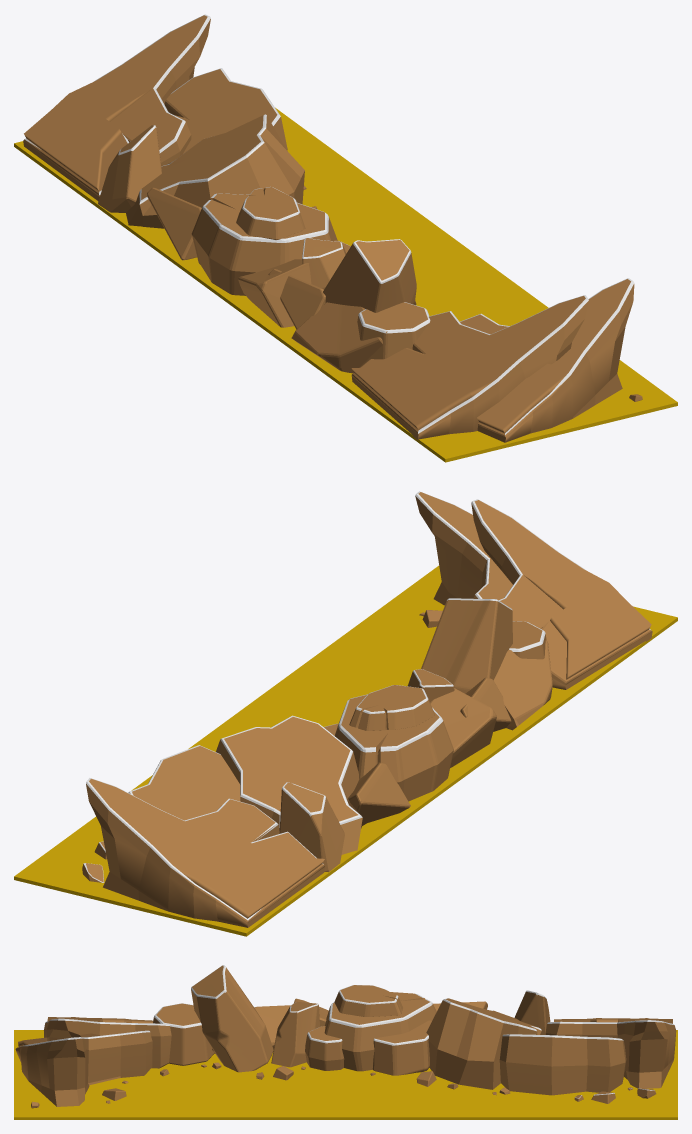
File: Pebble's Road Section 05 Old.fbx
3 views of the same model, one above another, from view 1: azimuth 30°, elevation 25°; view 2: azimuth 150°, elevation 25°; view 3: azimuth 270°, elevation 25° (orthographic). The views are drawn at different scales.
Visible parts, largest first — view 1: Rock_02 (×3), Ground, Rock_12 (×5), Rock_10, Rock_07, Rock_13 (×2), Rock_04, Rock_09; view 2: Rock_02 (×3), Ground, Rock_12 (×5), Rock_07, Rock_10, Rock_13 (×2), Rock_04, Rock_09; view 3: Ground, Rock_02 (×3), Rock_10, Rock_13 (×2), Rock_04, Rock_07, Rock_09, Rock_12 (×2).
Boxes of the visible parts, box(x1,y1,x2,y2) form: Rock_02 (×3): box(23, 14, 634, 442); Ground: box(14, 107, 677, 462); Rock_12 (×5): box(98, 125, 382, 373); Rock_10: box(191, 186, 350, 295); Rock_07: box(126, 114, 304, 228); Rock_13 (×2): box(302, 238, 416, 312); Rock_04: box(164, 68, 287, 153); Rock_09: box(357, 302, 430, 367); Rock_02 (×3): box(86, 491, 652, 927); Ground: box(14, 565, 677, 936); Rock_12 (×5): box(279, 640, 552, 872); Rock_07: box(216, 715, 362, 854); Rock_10: box(323, 685, 453, 801); Rock_13 (×2): box(407, 598, 512, 702); Rock_04: box(128, 745, 240, 820); Rock_09: box(509, 621, 546, 659); Ground: box(14, 1030, 677, 1119); Rock_02 (×3): box(15, 1017, 676, 1106); Rock_10: box(305, 985, 436, 1075); Rock_13 (×2): box(191, 965, 320, 1072); Rock_04: box(499, 1034, 626, 1095); Rock_07: box(426, 998, 541, 1089); Rock_09: box(153, 1003, 214, 1065); Rock_12 (×2): box(254, 990, 550, 1048).
Size of the model in its own units: 7052 by 3898 by 22500.
